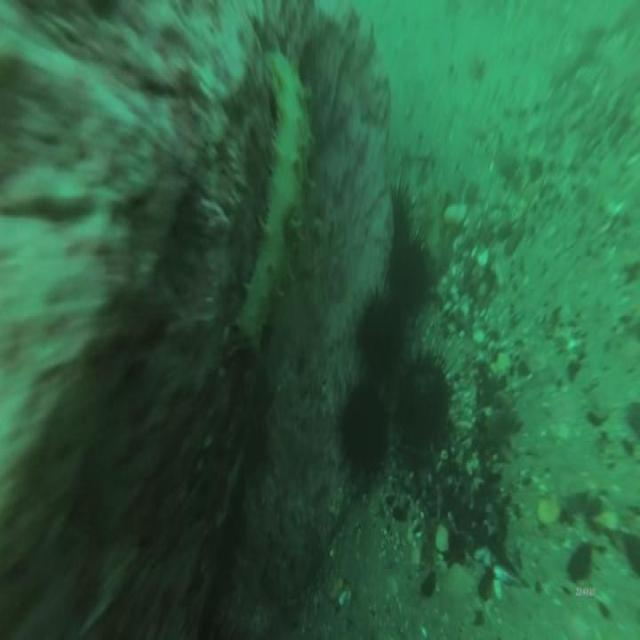echinus: (394, 343, 452, 453), (334, 379, 391, 488), (356, 278, 404, 383), (386, 232, 434, 321), (383, 178, 418, 260)
holothurian: (223, 41, 315, 357)
